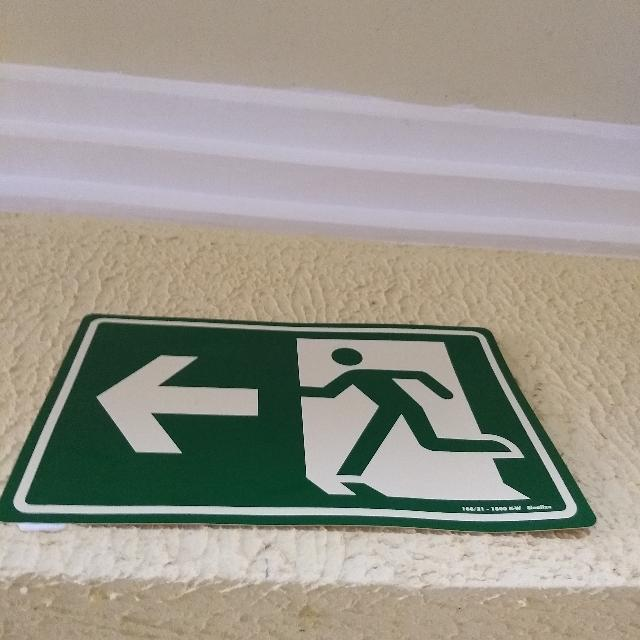exit: (0, 315, 594, 532)
